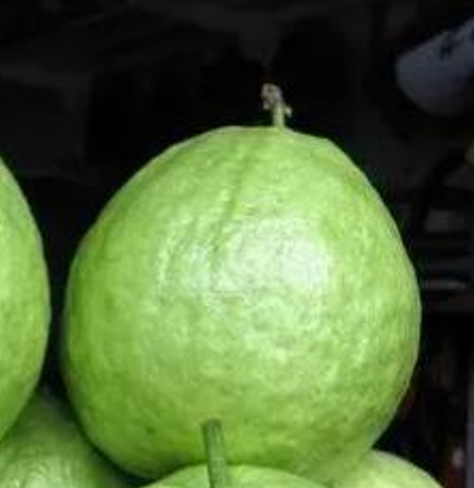guava_A: (59, 125, 421, 483)
